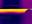Hotspot: (0, 9, 28, 13)
